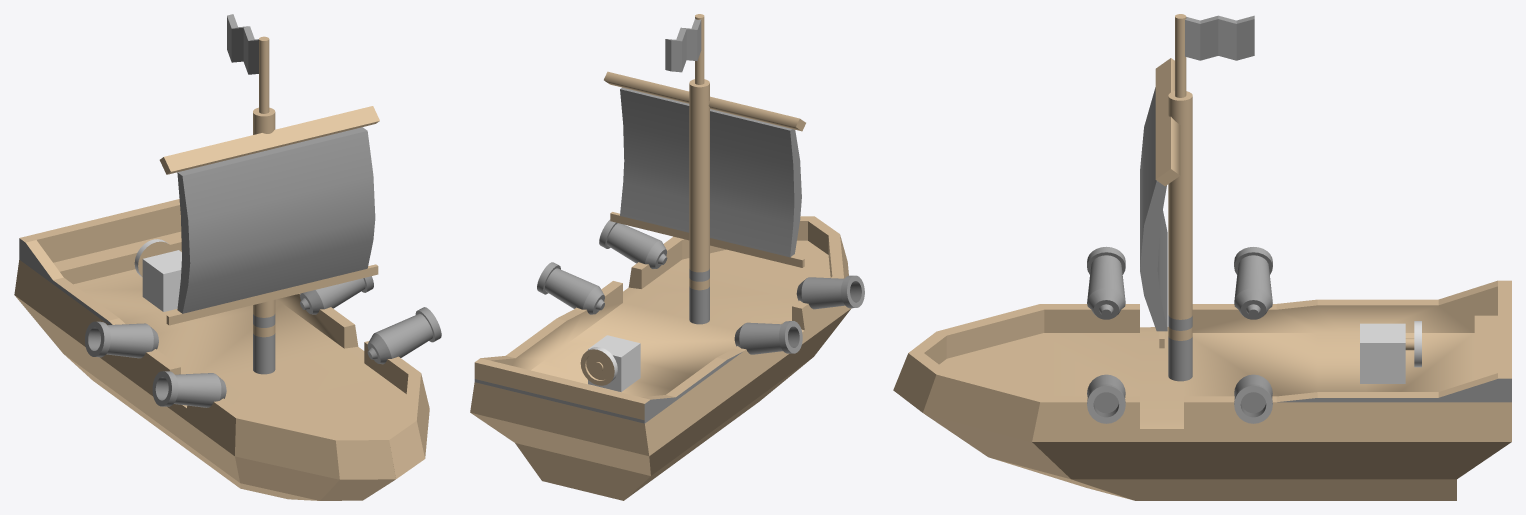
Rendered from Ship.fbx.
3 renders of one model, left to right at view 1: azimuth 30°, elevation 25°; view 2: azimuth 150°, elevation 25°; view 3: azimuth 270°, elevation 25°, orthographic. The views are drawn at different scales.
Parts seen in each view (by area): view 1: Hull, Sail, Sail.002, Mast, Cannon_FL, Cannon_FR, Cannon_RR, WheelBase, Sail.001, Cannon_RL, Flag, Wheel; view 2: Hull, Sail, Mast, Sail.002, Cannon_RL, Cannon_FR, Cannon_FL, Cannon_RR, WheelBase, Sail.001, Flag, Wheel; view 3: Hull, Mast, Sail, Flag, WheelBase, Sail.002, Cannon_RR, Cannon_FR, Cannon_RL, Cannon_FL.
Part boxes in pixels (<box>): Hull: <box>14,199,429,500</box>; Sail: <box>177,127,375,313</box>; Sail.002: <box>159,106,379,174</box>; Mast: <box>253,36,275,374</box>; Cannon_FL: <box>367,307,441,364</box>; Cannon_FR: <box>152,371,226,407</box>; Cannon_RR: <box>85,321,158,358</box>; WheelBase: <box>142,250,181,311</box>; Sail.001: <box>166,264,378,325</box>; Cannon_RL: <box>300,276,373,314</box>; Flag: <box>227,14,258,74</box>; Wheel: <box>134,239,173,277</box>; Hull: <box>470,216,851,500</box>; Sail: <box>620,87,801,257</box>; Mast: <box>689,14,709,324</box>; Sail.002: <box>604,71,805,131</box>; Cannon_RL: <box>537,262,604,314</box>; Cannon_FR: <box>796,275,864,309</box>; Cannon_FL: <box>599,219,667,268</box>; Cannon_RR: <box>734,321,802,354</box>; WheelBase: <box>588,335,640,391</box>; Sail.001: <box>610,212,804,267</box>; Flag: <box>665,18,701,72</box>; Wheel: <box>580,347,617,385</box>; Hull: <box>893,280,1511,500</box>; Mast: <box>1168,14,1192,381</box>; Sail: <box>1140,87,1167,331</box>; Flag: <box>1185,15,1254,60</box>; WheelBase: <box>1360,323,1405,383</box>; Sail.002: <box>1155,58,1180,186</box>; Cannon_RR: <box>1234,247,1272,319</box>; Cannon_FR: <box>1087,246,1125,319</box>; Cannon_RL: <box>1234,374,1272,423</box>; Cannon_FL: <box>1087,374,1125,423</box>.
Size of what is drawn, in the model's own units: 498 by 726 by 884.
